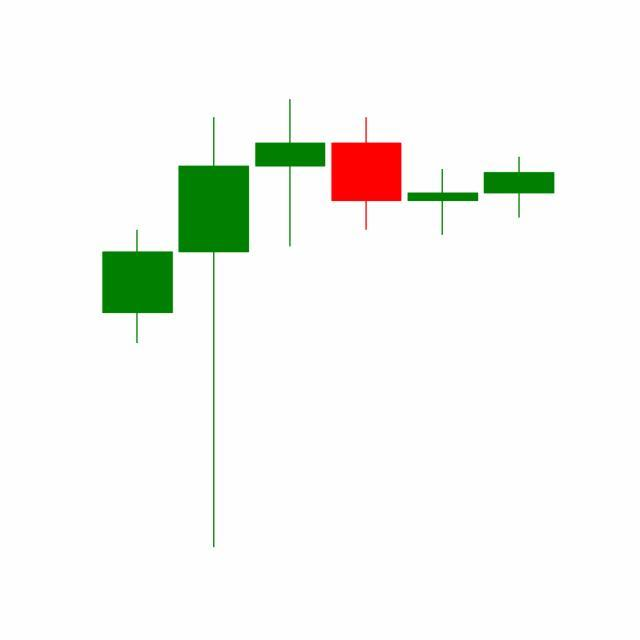Spinning Top: (404, 168, 482, 237)
